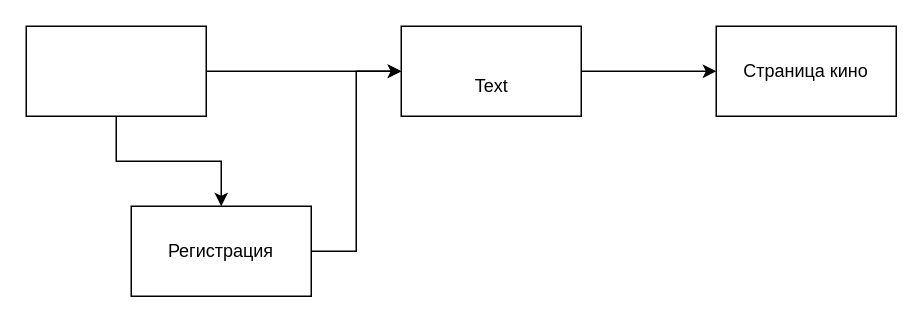
This 923x323 diagram has some shape labels left out. The shapes that lost their labels are listed below. From the top down, each one's box as (x1, y1, x2, y2) in pixels, then its label:
(25, 25, 206, 116): Авторизация
(400, 25, 581, 116): Главная страница
